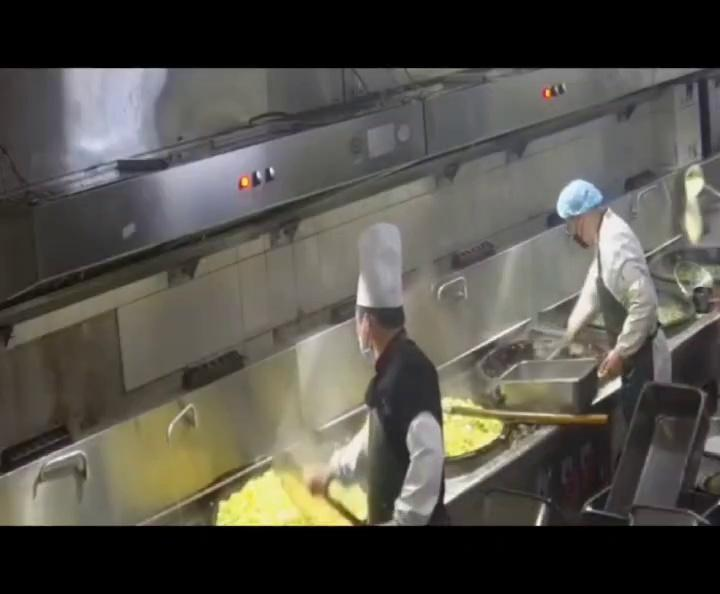mask: (349, 312, 382, 362)
